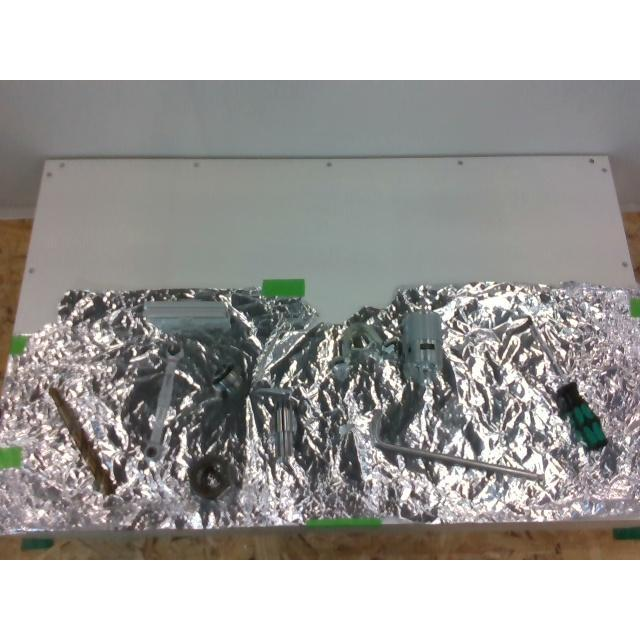AllenKey: (370, 416, 544, 482)
Axis2: (268, 400, 296, 460)
Bearing2: (212, 358, 250, 402)
Drill: (48, 386, 116, 494)
F20_20_G: (146, 300, 230, 332)
Housing: (330, 322, 396, 382)
M30: (188, 452, 238, 500)
Motor2: (402, 302, 442, 382)
Screwdriver: (526, 316, 606, 450)
Wrench: (144, 352, 182, 461)
